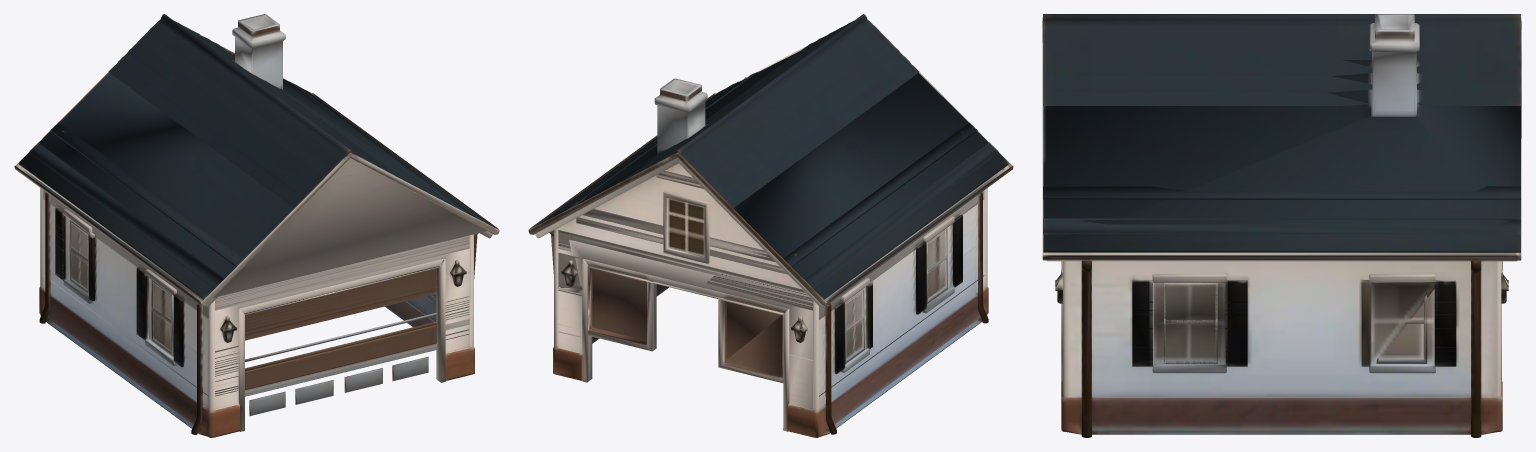
Rendered from house_with_garage_realistic_style_2c418de3_v3.glb.
The picture shows the model from 3 angles, left to right: view 1: azimuth 30°, elevation 25°; view 2: azimuth 150°, elevation 25°; view 3: azimuth 270°, elevation 25°; orthographic projection. The views are drawn at different scales.
Visible parts, largest first — view 1: material; view 2: material; view 3: material.
Part boxes in pixels (box(x1,y1,x2,y2)): material: box(14, 14, 499, 437); material: box(528, 14, 1013, 437); material: box(1042, 14, 1521, 437).
Size of the model in its own units: 1.76 by 1.56 by 1.9.
1 material, 1 textured.
